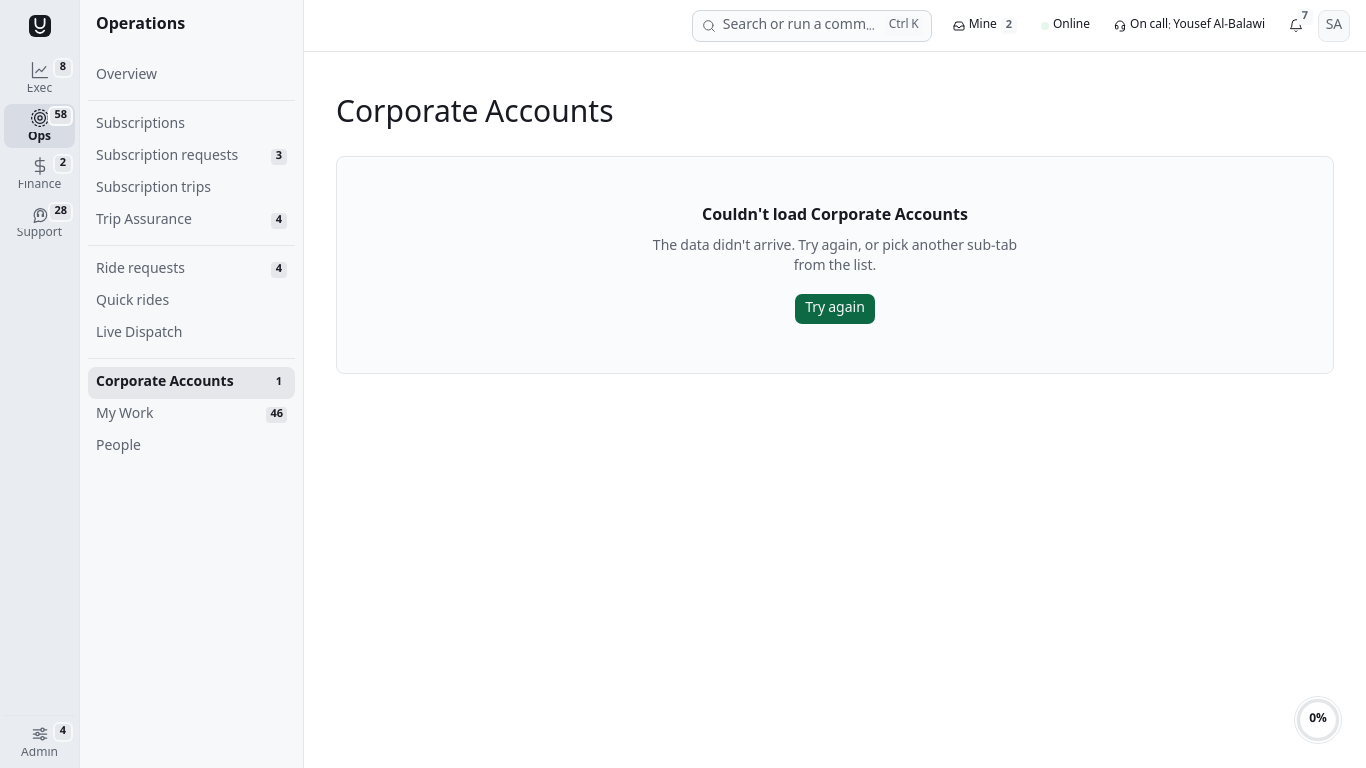
it: CorporateScreen — AC-24: a failed list read renders the page error state › recovers when the retry re-runs the request — the retry is bound to refetch
Click the button "Try again". click: [835, 309]
box: top-left (794, 293), bottom-right (876, 325)
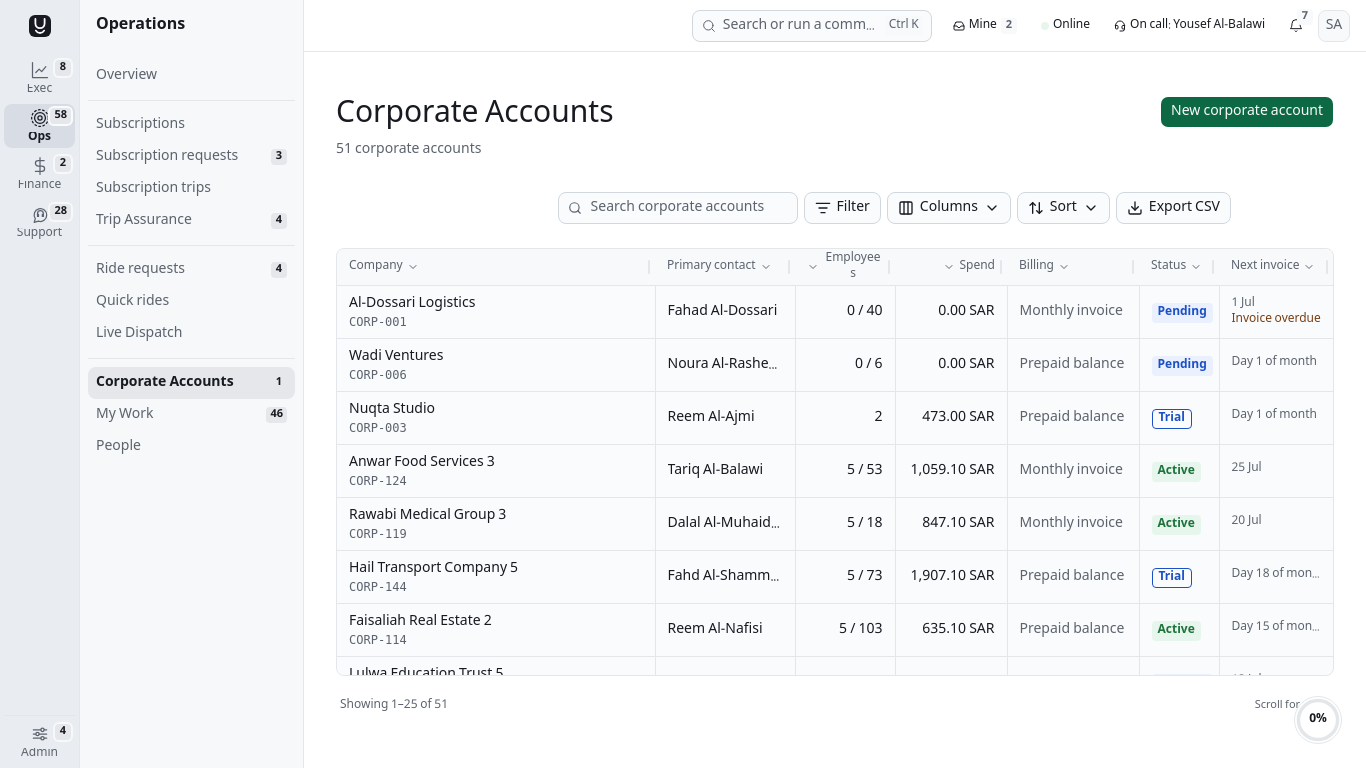
Expected: the text "Al-Dossari Logistics" is shown, top-left (349, 292), bottom-right (475, 316)
